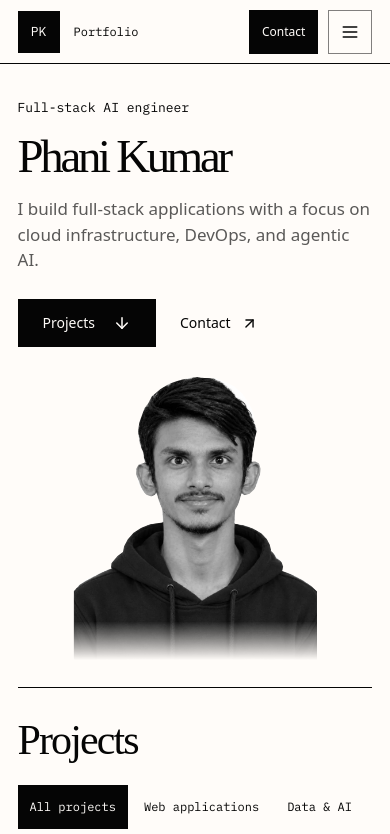
Test: portfolio experience › opens the mobile menu and closes it after selecting a section
Click the button named "Open navigation menu".
click(350, 32)  # box [328,10,372,54]
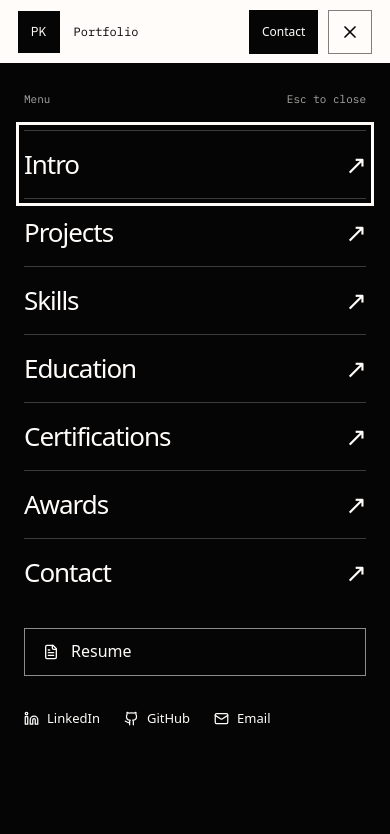
Now the button named "Open navigation menu" is expanded, box [328,10,372,54]
Now the link "Intro ↗" is shown
Click the link "Intro ↗".
click(52, 164)  # box [24,130,366,198]
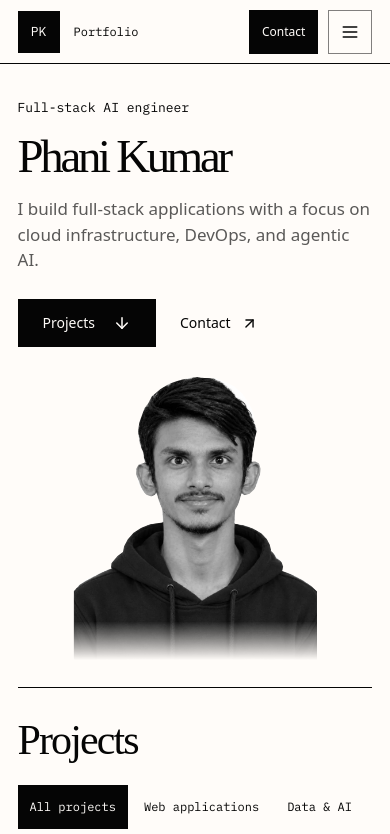
Now the button named "Open navigation menu" is collapsed, box [328,10,372,54]
